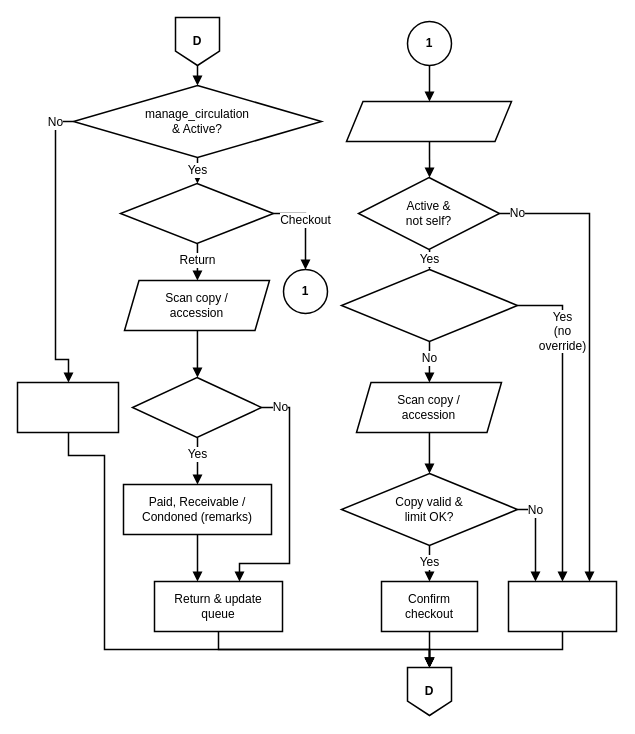
This 635x734 diagram has some shape labels left out. The centre of each missing label's shape, as x and y in pixels:
"Desk mode?" belongs at (196,213).
"Overdue, lost, fines?" belongs at (429,305).
"Overdue?" belongs at (196,407).
"Redirect to Dashboard" belongs at (67,407).
"Scan card / ID" belongs at (428,121).
"Show error / cancel" belongs at (562,606).
